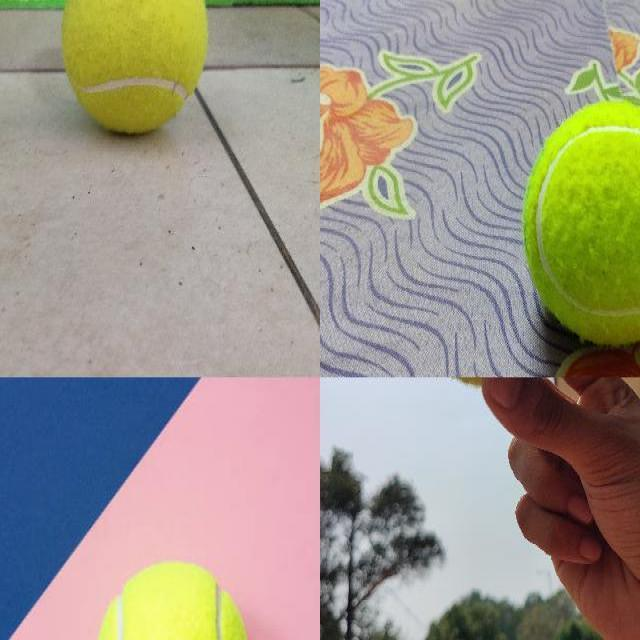tennis-ball: (520, 99, 639, 347), (59, 0, 209, 134), (95, 559, 250, 639)
